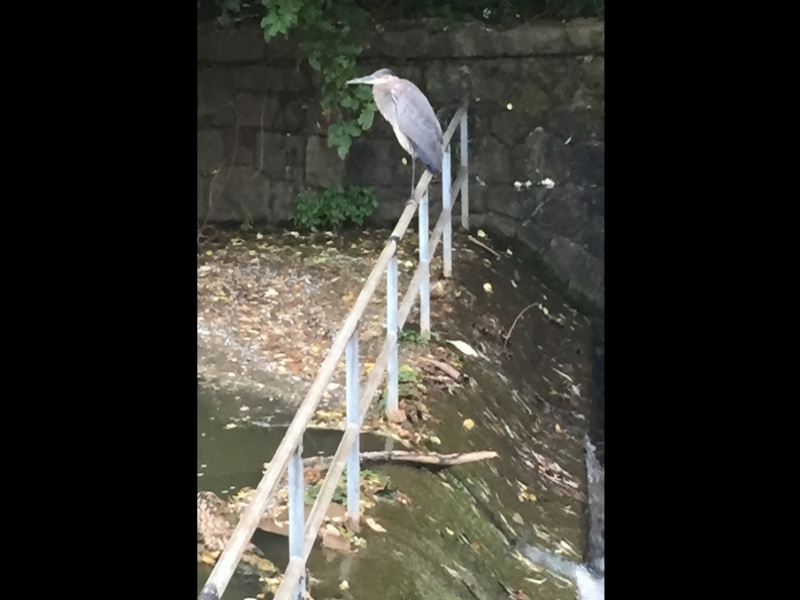heron: (342, 65, 445, 187)
